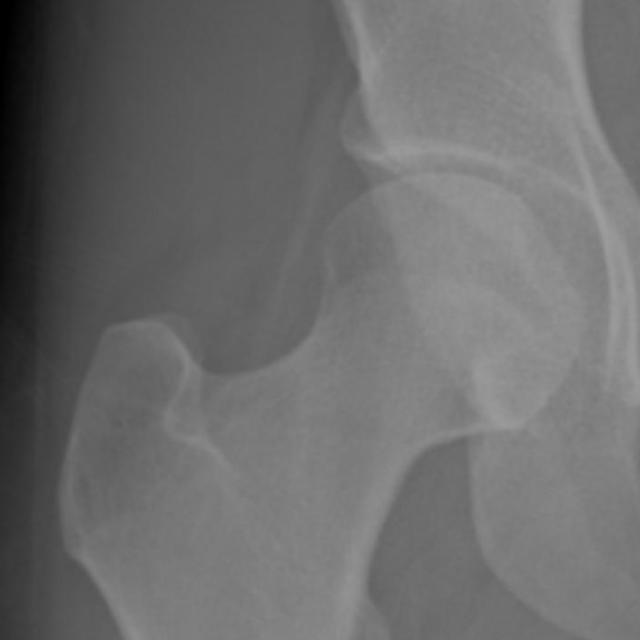Fitted_femural_head: (279, 177, 432, 279)
